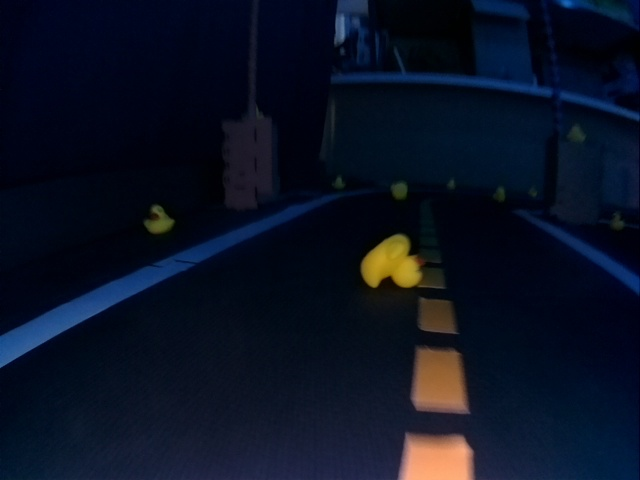Duckie: (361, 234, 425, 289), (145, 206, 173, 234), (567, 125, 584, 141), (610, 212, 625, 230), (390, 182, 408, 194), (494, 187, 506, 200), (333, 178, 345, 189), (447, 179, 456, 188), (528, 188, 537, 196)
